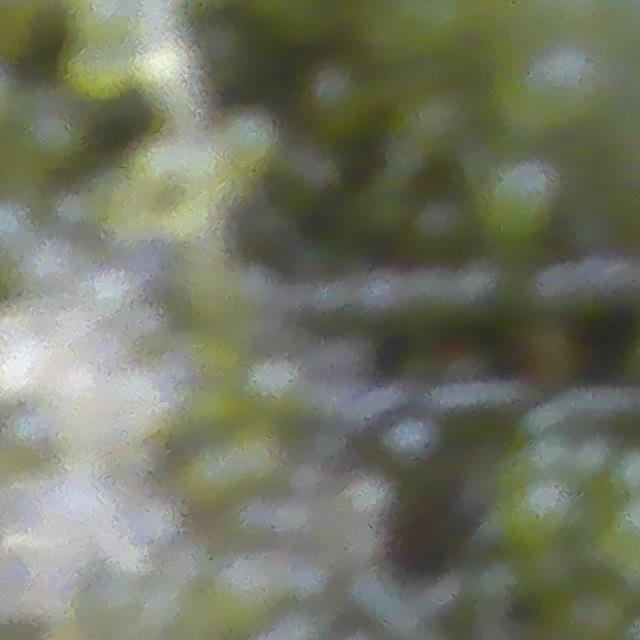SeaGrape: (480, 161, 558, 241), (43, 363, 110, 439), (100, 376, 167, 442)
